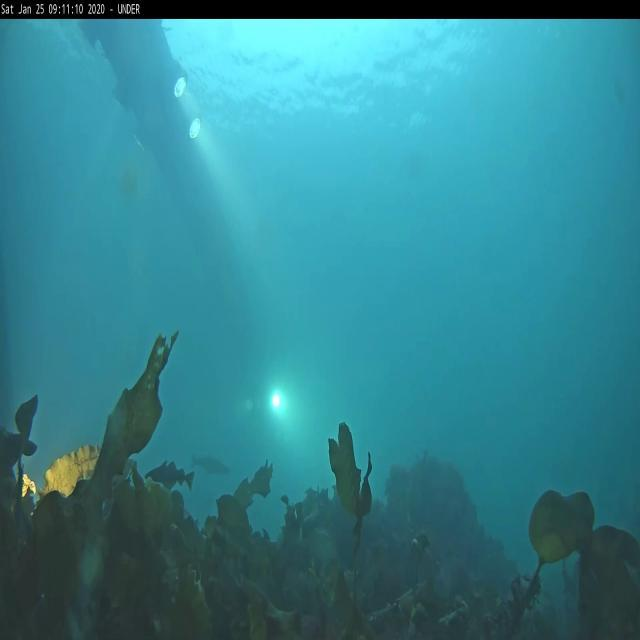fish: (144, 456, 193, 496), (191, 453, 231, 481)
